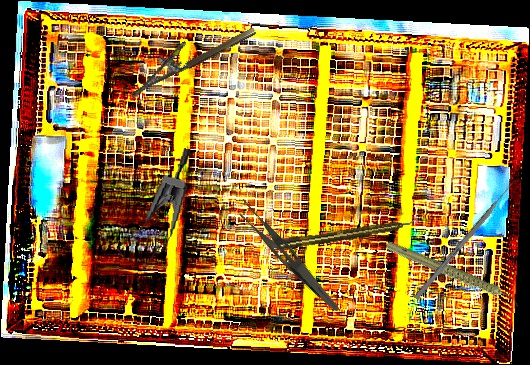Dressing Forceps: (228, 196, 352, 314)
Handpiece: (383, 215, 522, 335), (274, 216, 419, 252)
Needle Holder: (120, 10, 258, 99)
Pusher: (413, 177, 519, 301)
Speculum: (114, 141, 193, 274)
